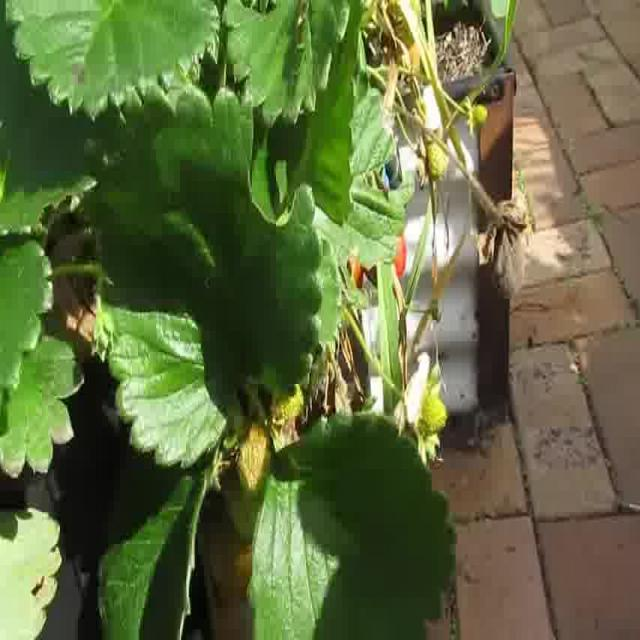Fruta sana: (230, 417, 276, 500), (424, 128, 450, 184), (383, 223, 407, 280), (340, 246, 366, 296)
Moho gris: (482, 200, 528, 300)
